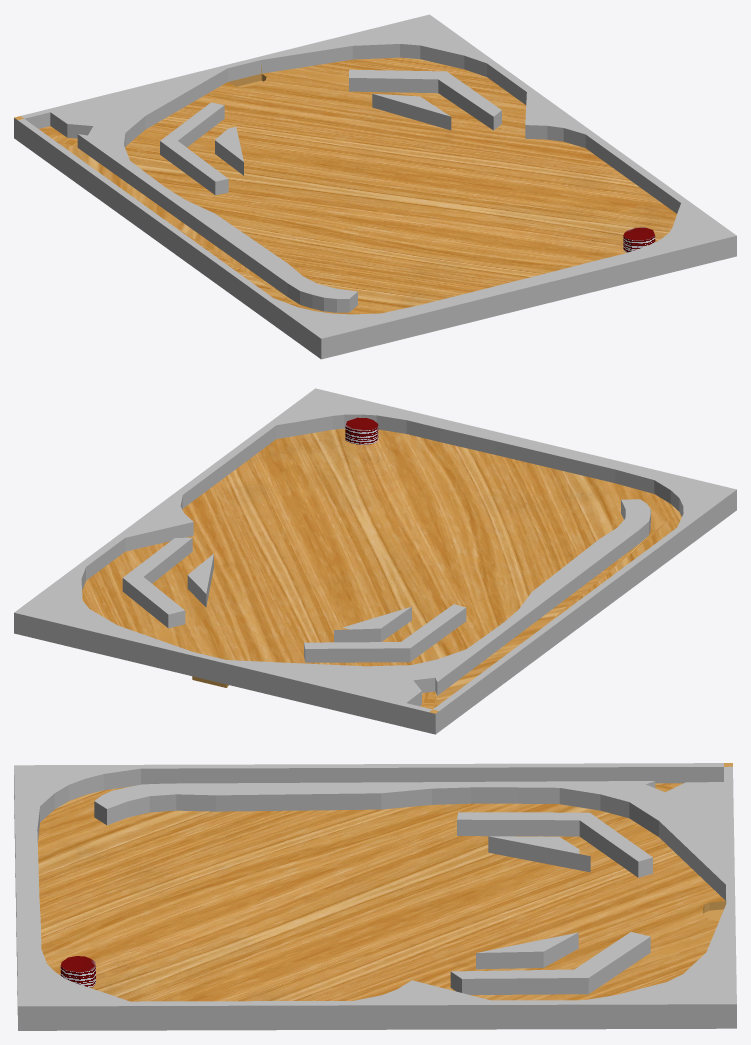
Rendered from PA10NewMachine.obj.
3 renders of one model, top to bottom at view 1: azimuth 30°, elevation 25°; view 2: azimuth 150°, elevation 25°; view 3: azimuth 270°, elevation 25°, orthographic. The views are drawn at different scales.
Parts seen in each view (by area): view 1: Cube; view 2: Cube; view 3: Cube.
Boxes of the visible parts, x1=… form: Cube: x1=14, y1=14, x2=736, y2=359; Cube: x1=14, y1=388, x2=736, y2=734; Cube: x1=14, y1=763, x2=736, y2=1030.
Bounding box in the file's own units: 50.36 × 3.26 × 63.22.
